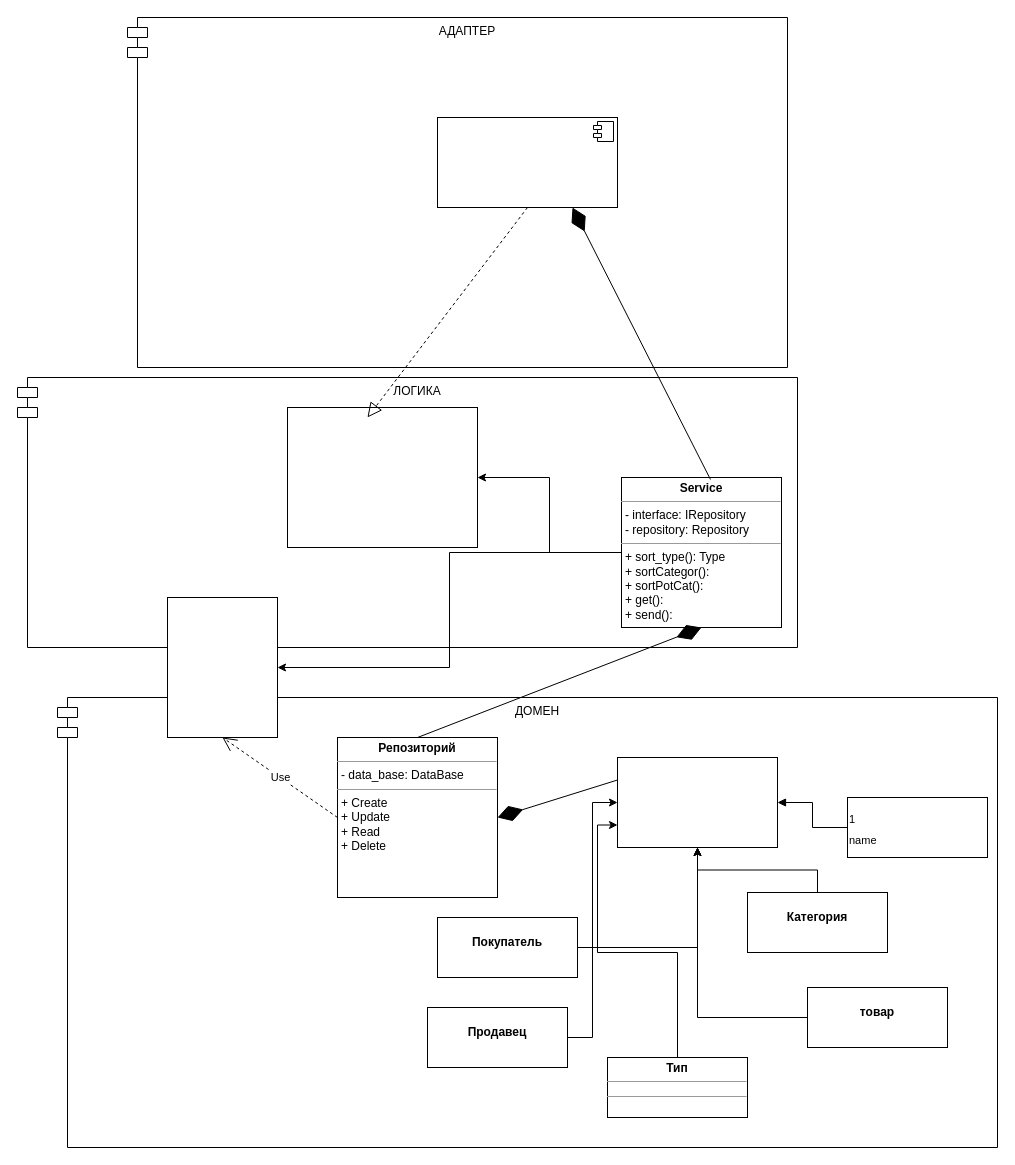
This 1015x1165 diagram has some shape labels left out. Here are the shapes that lost their labels. From the top down, the centre of each, then its label:
(x=527, y=162): Adapter + get(): Type + send(): Type
(x=382, y=477): <<Interface>> Interface + get(Type): Type + send(Type, Type): Type
(x=222, y=667): «interface» IRepository + Create + Update + Read + Delete
(x=697, y=802): БАЗА ДАННЫХ
(x=917, y=827): Подкатегория
